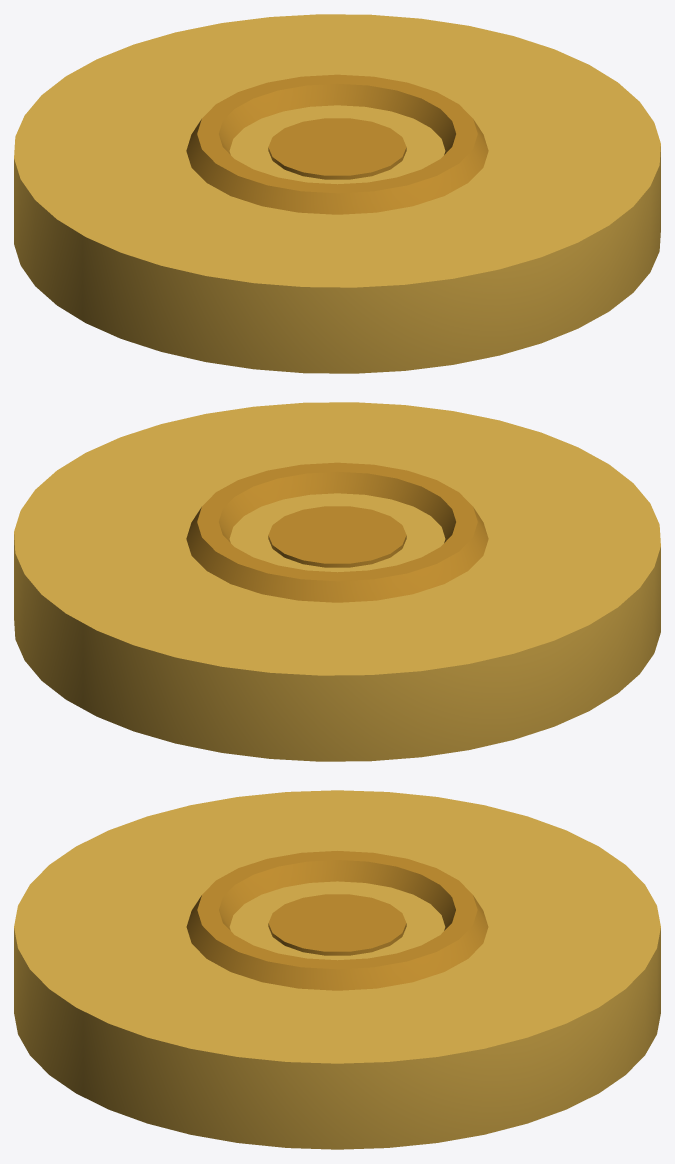
The model's file is prop_coin_v2.glb.
3 renders of one model, top to bottom at view 1: azimuth 30°, elevation 25°; view 2: azimuth 150°, elevation 25°; view 3: azimuth 270°, elevation 25°, orthographic.
Visible parts, largest first — view 1: CoinV2; view 2: CoinV2; view 3: CoinV2.
Part boxes in pixels (<box>): CoinV2: <box>14,14,660,373</box>; CoinV2: <box>14,402,660,761</box>; CoinV2: <box>14,790,660,1149</box>.
Bounding box in the file's own units: 1.5 × 0.2633 × 1.5.
